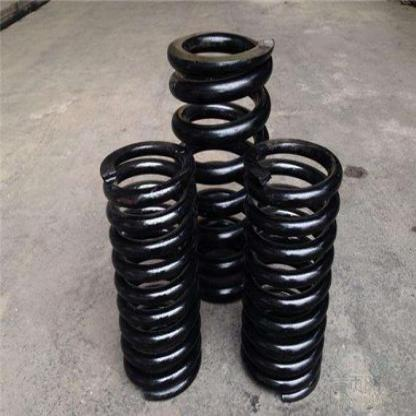FOD: (166, 22, 276, 308), (237, 133, 345, 403), (96, 138, 205, 401)
